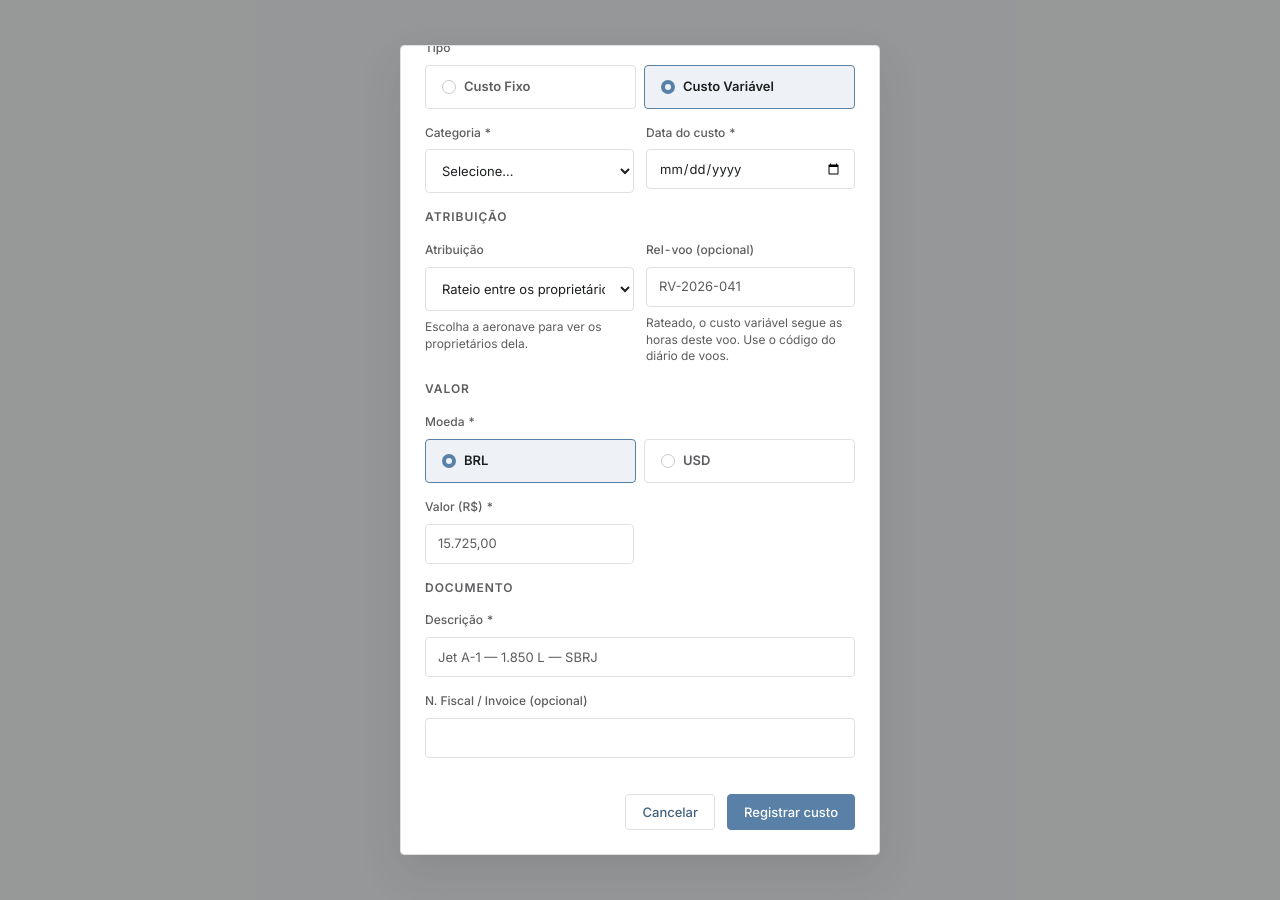
Test: PainelDeCusto › salvar vazio leva o foco à Aeronave e o resumo diz o que falta, sem ir ao servidor
The image size is (1280, 900).
(page scrolled)
Click the button "Registrar custo": (791, 812) [727, 794, 855, 830]
(page scrolled)
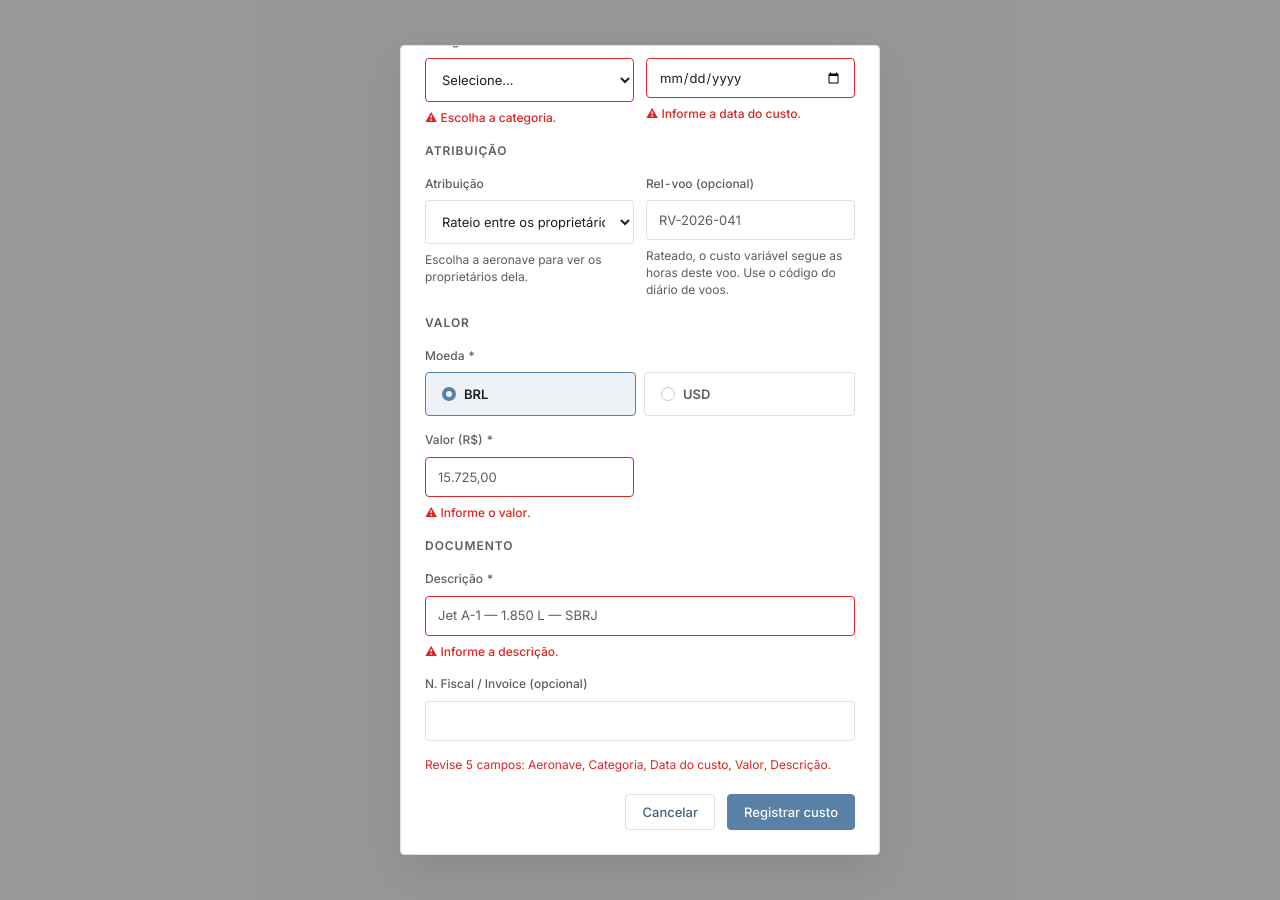
expect the text "Revise 5 campos" reads "Revise 5 campos: Aeronave, Categoria, Data do custo, Valor, Descrição.": met, box [425, 757, 831, 772]
